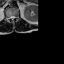CCS_normal: (11, 13, 13, 21)
LFS_normal: (15, 14, 16, 20)
LLS_normal: (13, 14, 15, 20)
RFS_normal: (8, 15, 10, 20)
RLS_normal: (10, 14, 11, 20)
